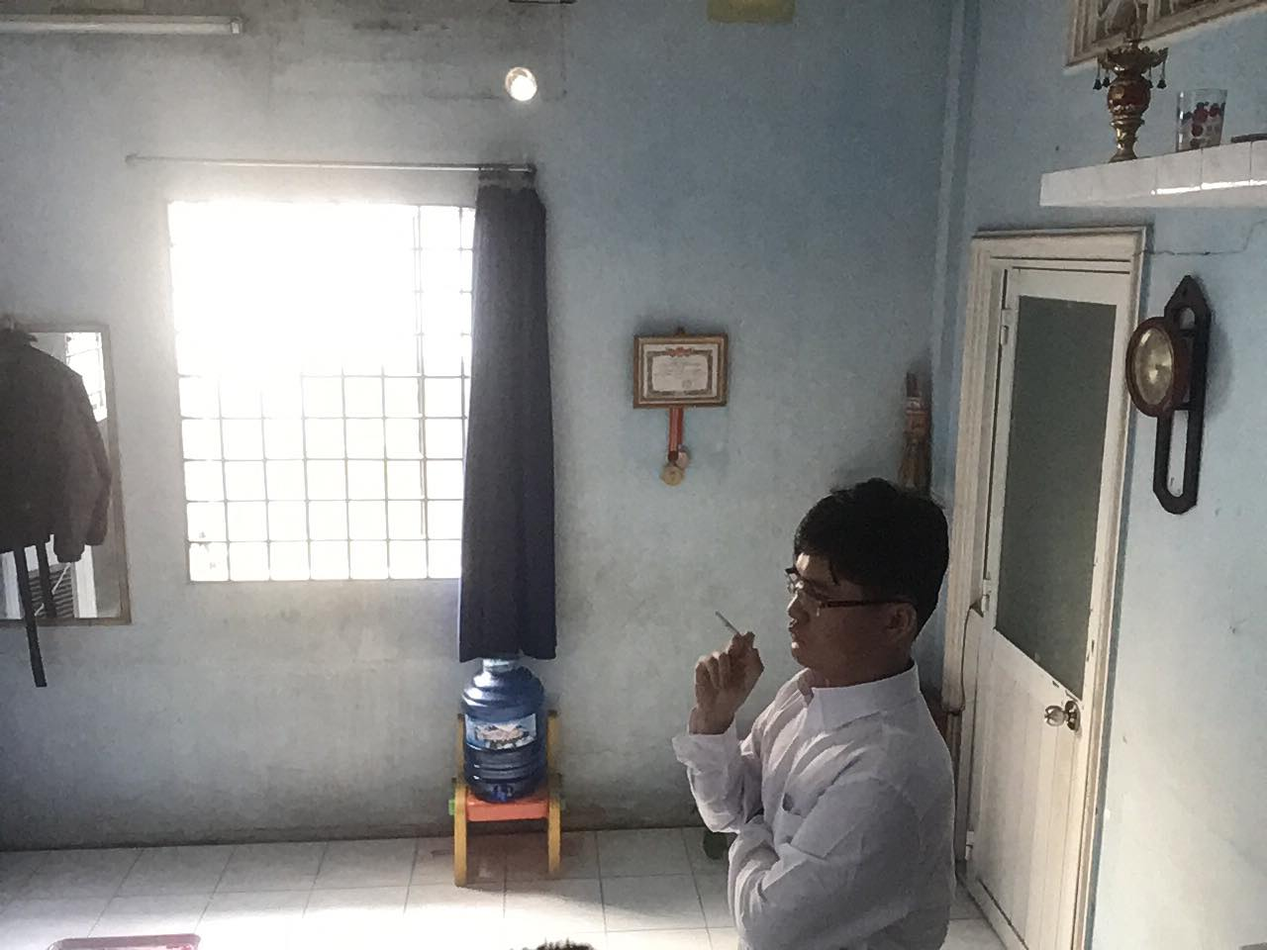cigarette: (639, 467, 994, 950), (716, 613, 744, 641)
